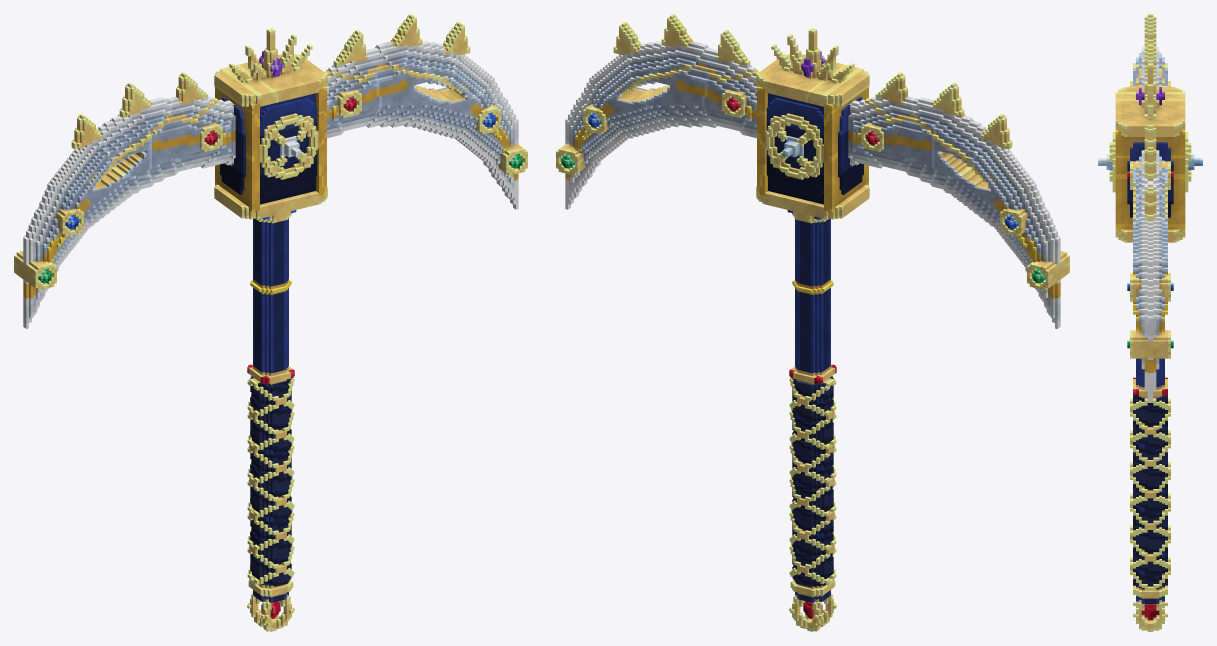
Rendered from PiocheLegende.fbx.
3 views of the same model, side by side, from view 1: azimuth 30°, elevation 25°; view 2: azimuth 150°, elevation 25°; view 3: azimuth 270°, elevation 25° (orthographic). The views are drawn at different scales.
Parts seen in each view (by area): view 1: PiocheLegende_Tete_Mithril, PiocheLegende_Tete_Or, PiocheLegende_Manche_Or, PiocheLegende_Manche_Email, PiocheLegende_Manche_Cuir, PiocheLegende_Tete_Email, PiocheLegende_Tete_Gemme; view 2: PiocheLegende_Tete_Mithril, PiocheLegende_Tete_Or, PiocheLegende_Manche_Or, PiocheLegende_Manche_Email, PiocheLegende_Manche_Cuir, PiocheLegende_Tete_Email, PiocheLegende_Tete_Gemme; view 3: PiocheLegende_Tete_Or, PiocheLegende_Tete_Mithril, PiocheLegende_Manche_Or, PiocheLegende_Manche_Cuir, PiocheLegende_Manche_Email, PiocheLegende_Tete_Email, PiocheLegende_Tete_Gemme, PiocheLegende_Manche_Gemme, PiocheLegende_Tete_Cristal.
Part boxes in pixels (bbox=[...]): PiocheLegende_Tete_Mithril: bbox=[23, 41, 518, 328]; PiocheLegende_Tete_Or: bbox=[14, 14, 527, 298]; PiocheLegende_Manche_Or: bbox=[247, 211, 294, 631]; PiocheLegende_Manche_Email: bbox=[253, 218, 288, 602]; PiocheLegende_Manche_Cuir: bbox=[250, 376, 291, 586]; PiocheLegende_Tete_Email: bbox=[220, 93, 317, 204]; PiocheLegende_Tete_Gemme: bbox=[38, 51, 522, 283]; PiocheLegende_Tete_Mithril: bbox=[565, 41, 1060, 328]; PiocheLegende_Tete_Or: bbox=[556, 14, 1069, 298]; PiocheLegende_Manche_Or: bbox=[789, 211, 836, 631]; PiocheLegende_Manche_Email: bbox=[795, 218, 830, 602]; PiocheLegende_Manche_Cuir: bbox=[792, 376, 833, 587]; PiocheLegende_Tete_Email: bbox=[766, 93, 863, 204]; PiocheLegende_Tete_Gemme: bbox=[561, 51, 1045, 283]; PiocheLegende_Tete_Or: bbox=[1109, 14, 1191, 372]; PiocheLegende_Tete_Mithril: bbox=[1133, 46, 1167, 402]; PiocheLegende_Manche_Or: bbox=[1130, 379, 1170, 631]; PiocheLegende_Manche_Cuir: bbox=[1133, 395, 1167, 589]; PiocheLegende_Manche_Email: bbox=[1136, 358, 1164, 603]; PiocheLegende_Tete_Email: bbox=[1127, 142, 1173, 217]; PiocheLegende_Tete_Gemme: bbox=[1127, 87, 1173, 348]; PiocheLegende_Manche_Gemme: bbox=[1133, 377, 1167, 620]; PiocheLegende_Tete_Cristal: bbox=[1098, 154, 1202, 169].
Size of the model in its own units: 7.36 by 8.56 by 1.44.
